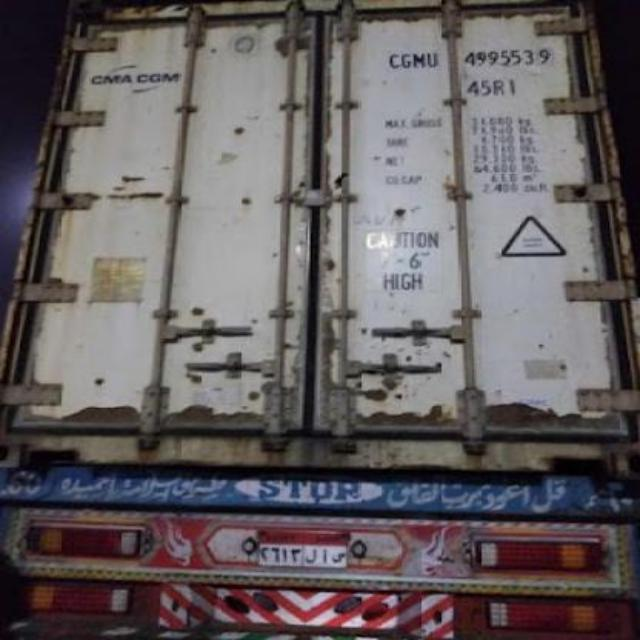3: (524, 47, 534, 67)
4: (462, 51, 476, 67)
5: (498, 48, 512, 68), (508, 49, 524, 65)
9: (538, 46, 550, 66), (476, 50, 488, 66), (488, 50, 498, 66)
C: (388, 51, 400, 71)
G: (402, 51, 412, 69)
M: (414, 51, 426, 69)
U: (424, 51, 438, 67)
